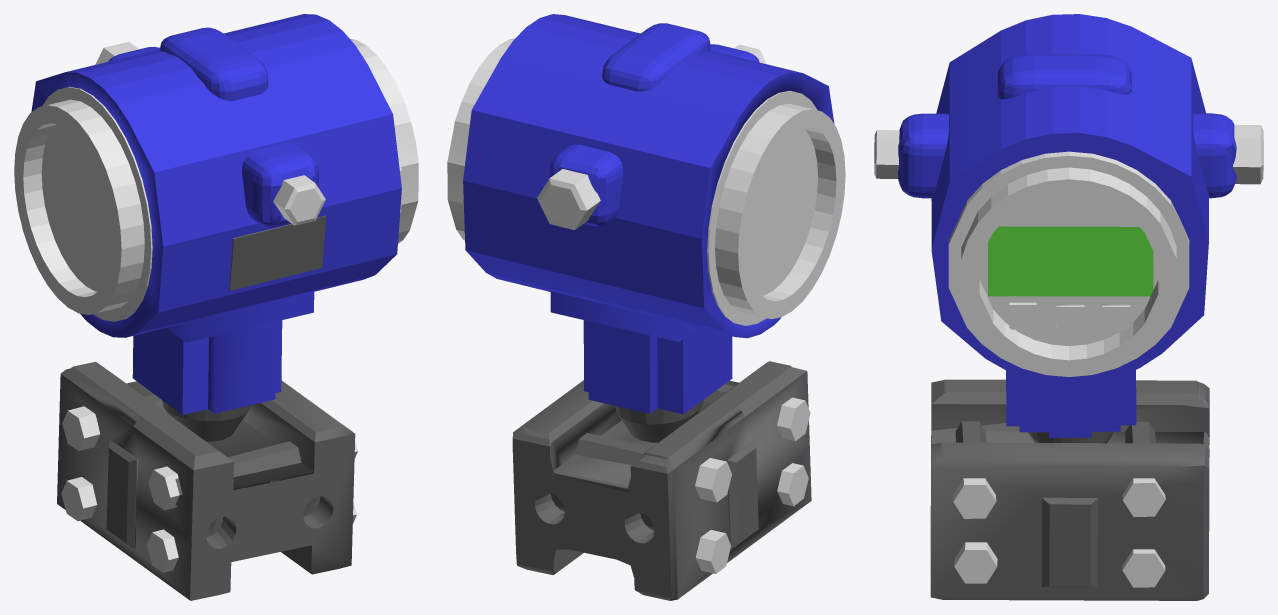
File: Transmitter.fbx
The picture shows the model from 3 angles, left to right: view 1: azimuth 30°, elevation 25°; view 2: azimuth 150°, elevation 25°; view 3: azimuth 270°, elevation 25°; orthographic projection. The views are drawn at different scales.
Parts seen in each view (by area): view 1: Plane.013, Tapa; view 2: Plane.013, Tapa; view 3: Plane.013.
Boxes of the visible parts, bbox=[...] form: Plane.013: bbox=[31, 14, 418, 600]; Tapa: bbox=[14, 86, 152, 321]; Plane.013: bbox=[447, 14, 834, 600]; Tapa: bbox=[707, 91, 845, 325]; Plane.013: bbox=[874, 14, 1263, 600].
Size of the model in its own units: 34.07 by 54.48 by 38.05.
